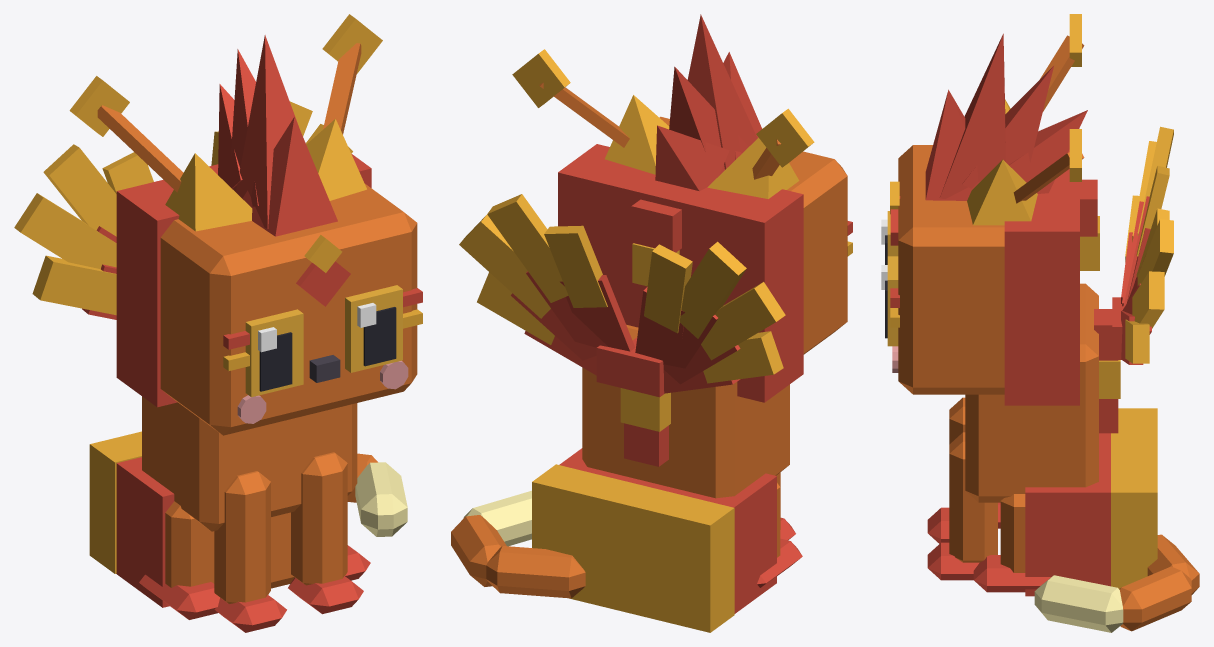
The model's file is CleanACat_Cat_Phoenix_Sit_Lite.fbx.
3 renders of one model, left to right at view 1: azimuth 30°, elevation 25°; view 2: azimuth 150°, elevation 25°; view 3: azimuth 270°, elevation 25°, orthographic. The views are drawn at different scales.
Visible parts, largest first — view 1: CleanACat_Cat_Phoenix_Sit_Lite_Head, CleanACat_Cat_Phoenix_Sit_Lite_Body, CleanACat_Cat_Phoenix_Sit_Lite_Prop, CleanACat_Cat_Phoenix_Sit_Lite_Prop2, CleanACat_Cat_Phoenix_Sit_Lite_LegF1, CleanACat_Cat_Phoenix_Sit_Lite_LegF2, CleanACat_Cat_Phoenix_Sit_Lite_Eye1, CleanACat_Cat_Phoenix_Sit_Lite_Eye2, CleanACat_Cat_Phoenix_Sit_Lite_EarR, CleanACat_Cat_Phoenix_Sit_Lite_Tail, CleanACat_Cat_Phoenix_Sit_Lite_EarL; view 2: CleanACat_Cat_Phoenix_Sit_Lite_Body, CleanACat_Cat_Phoenix_Sit_Lite_Prop2, CleanACat_Cat_Phoenix_Sit_Lite_Head, CleanACat_Cat_Phoenix_Sit_Lite_Prop, CleanACat_Cat_Phoenix_Sit_Lite_Tail, CleanACat_Cat_Phoenix_Sit_Lite_EarL, CleanACat_Cat_Phoenix_Sit_Lite_EarR; view 3: CleanACat_Cat_Phoenix_Sit_Lite_Head, CleanACat_Cat_Phoenix_Sit_Lite_Body, CleanACat_Cat_Phoenix_Sit_Lite_Prop, CleanACat_Cat_Phoenix_Sit_Lite_Prop2, CleanACat_Cat_Phoenix_Sit_Lite_Tail, CleanACat_Cat_Phoenix_Sit_Lite_LegF1, CleanACat_Cat_Phoenix_Sit_Lite_EarL, CleanACat_Cat_Phoenix_Sit_Lite_LegF2, CleanACat_Cat_Phoenix_Sit_Lite_Eye1, CleanACat_Cat_Phoenix_Sit_Lite_Eye2.
Boxes of the visible parts, bbox=[...] form: CleanACat_Cat_Phoenix_Sit_Lite_Head: bbox=[116, 154, 422, 435]; CleanACat_Cat_Phoenix_Sit_Lite_Body: bbox=[89, 396, 370, 619]; CleanACat_Cat_Phoenix_Sit_Lite_Prop: bbox=[69, 14, 382, 236]; CleanACat_Cat_Phoenix_Sit_Lite_Prop2: bbox=[14, 101, 352, 319]; CleanACat_Cat_Phoenix_Sit_Lite_LegF1: bbox=[288, 452, 363, 614]; CleanACat_Cat_Phoenix_Sit_Lite_LegF2: bbox=[214, 471, 286, 632]; CleanACat_Cat_Phoenix_Sit_Lite_Eye1: bbox=[345, 285, 402, 372]; CleanACat_Cat_Phoenix_Sit_Lite_Eye2: bbox=[245, 309, 303, 397]; CleanACat_Cat_Phoenix_Sit_Lite_EarR: bbox=[165, 153, 252, 231]; CleanACat_Cat_Phoenix_Sit_Lite_Tail: bbox=[347, 453, 407, 536]; CleanACat_Cat_Phoenix_Sit_Lite_EarL: bbox=[306, 119, 366, 200]; CleanACat_Cat_Phoenix_Sit_Lite_Body: bbox=[532, 324, 802, 632]; CleanACat_Cat_Phoenix_Sit_Lite_Prop2: bbox=[459, 194, 785, 397]; CleanACat_Cat_Phoenix_Sit_Lite_Head: bbox=[558, 116, 852, 402]; CleanACat_Cat_Phoenix_Sit_Lite_Prop: bbox=[512, 14, 814, 191]; CleanACat_Cat_Phoenix_Sit_Lite_Tail: bbox=[451, 490, 585, 598]; CleanACat_Cat_Phoenix_Sit_Lite_EarL: bbox=[605, 95, 669, 174]; CleanACat_Cat_Phoenix_Sit_Lite_EarR: bbox=[707, 137, 799, 198]; CleanACat_Cat_Phoenix_Sit_Lite_Head: bbox=[890, 145, 1099, 405]; CleanACat_Cat_Phoenix_Sit_Lite_Body: bbox=[965, 283, 1157, 596]; CleanACat_Cat_Phoenix_Sit_Lite_Prop: bbox=[925, 14, 1087, 203]; CleanACat_Cat_Phoenix_Sit_Lite_Prop2: bbox=[1112, 126, 1173, 364]; CleanACat_Cat_Phoenix_Sit_Lite_Tail: bbox=[1034, 534, 1199, 632]; CleanACat_Cat_Phoenix_Sit_Lite_LegF1: bbox=[927, 432, 997, 580]; CleanACat_Cat_Phoenix_Sit_Lite_EarL: bbox=[967, 159, 1037, 225]; CleanACat_Cat_Phoenix_Sit_Lite_LegF2: bbox=[927, 397, 965, 543]; CleanACat_Cat_Phoenix_Sit_Lite_Eye1: bbox=[881, 256, 898, 346]; CleanACat_Cat_Phoenix_Sit_Lite_Eye2: bbox=[881, 211, 898, 264].
Bounding box in the file's own units: 1.5 × 2.26 × 1.24.
1 material, 1 textured.
